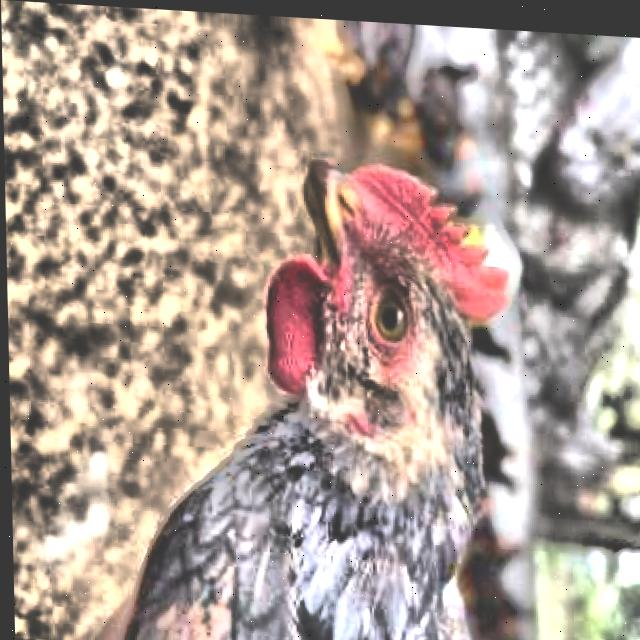Healthy: (348, 262, 437, 349)
